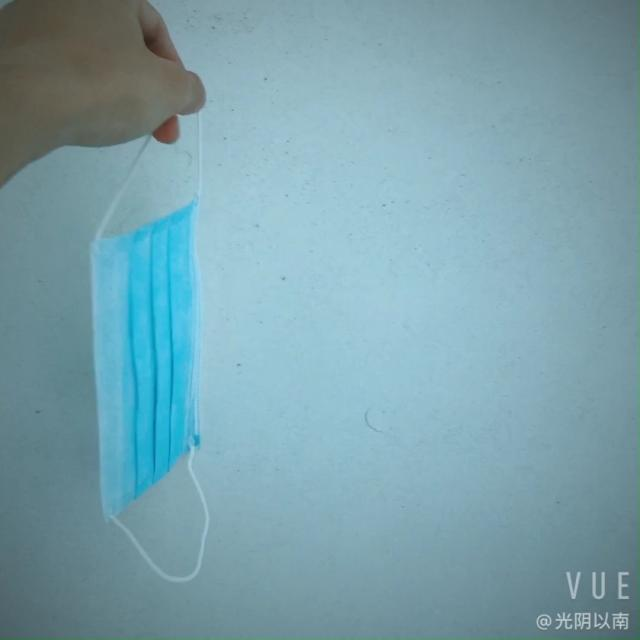non-organic waste: (74, 208, 218, 516)
